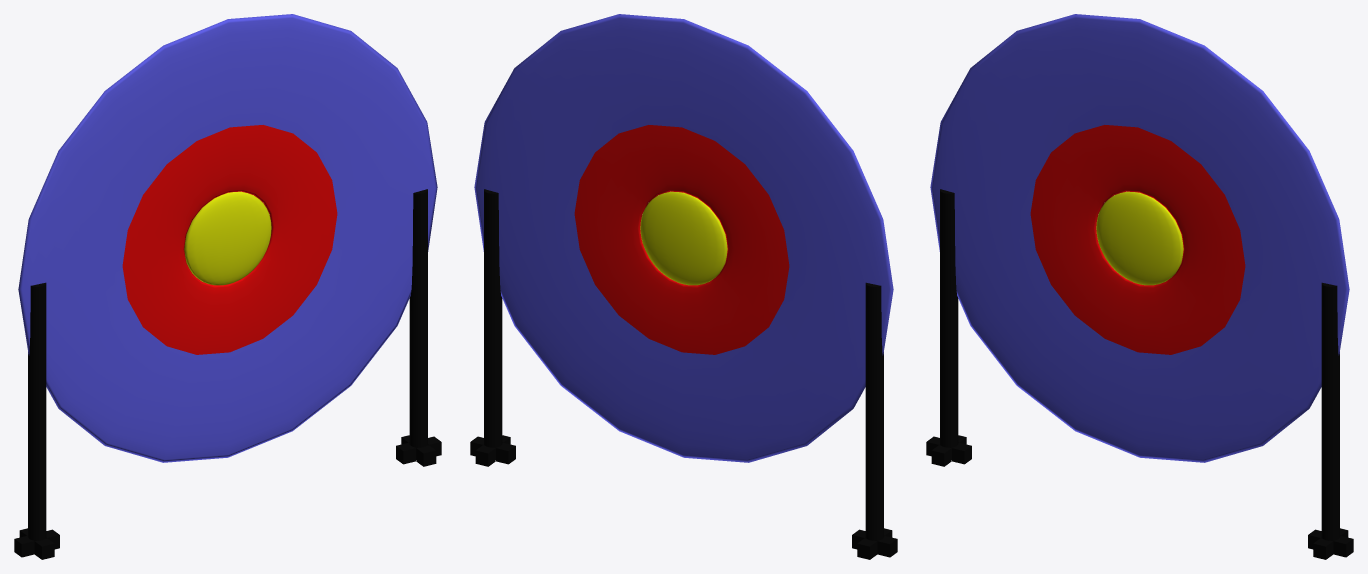
File: Target.fbx
3 renders of one model, left to right at view 1: azimuth 30°, elevation 25°; view 2: azimuth 150°, elevation 25°; view 3: azimuth 330°, elevation 25°, orthographic.
Parts seen in each view (by area): view 1: pCylinder6; view 2: pCylinder6; view 3: pCylinder6.
Part boxes in pixels (x1=…): pCylinder6: x1=14, y1=14, x2=441, y2=559; pCylinder6: x1=470, y1=14, x2=897, y2=559; pCylinder6: x1=926, y1=14, x2=1353, y2=559.
Bounding box in the file's own units: 2.64 × 2.91 × 0.244.
